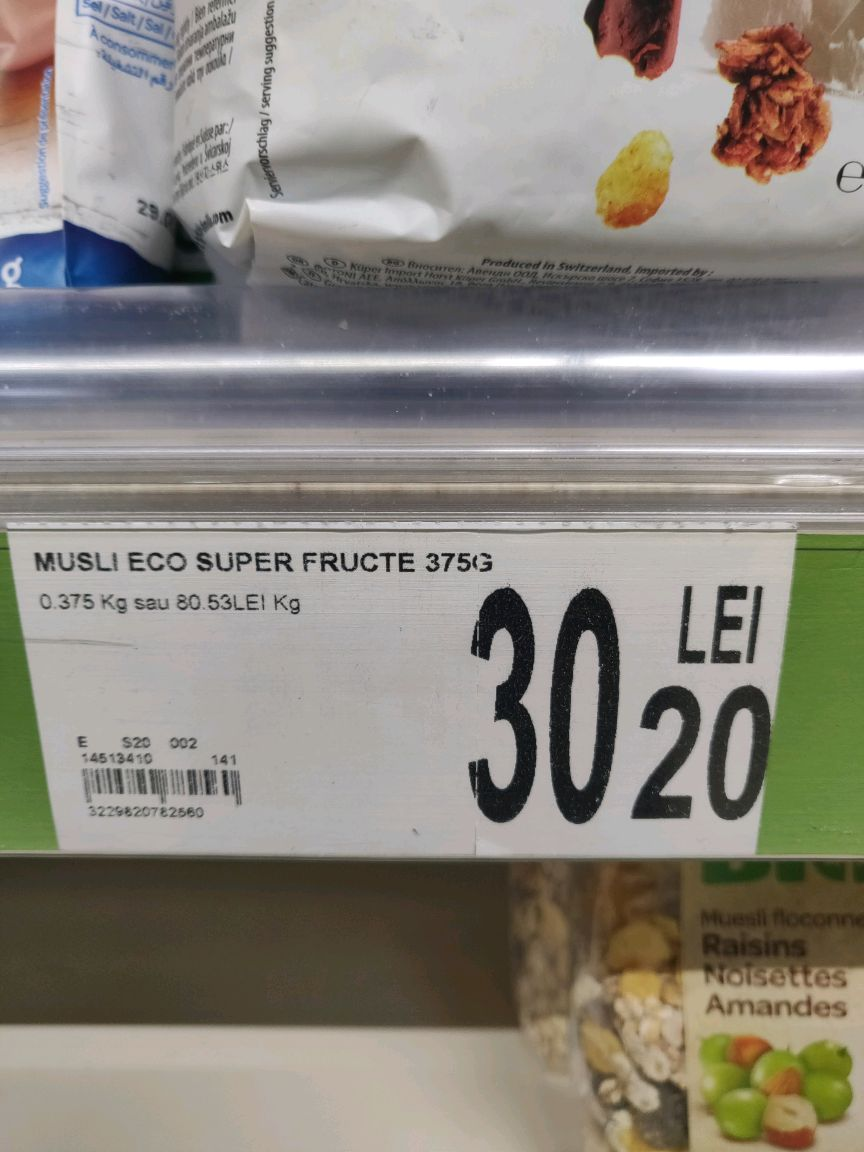price_bani: (629, 676, 775, 837)
price_lei: (448, 583, 625, 834)
price_tag: (2, 515, 806, 865)
product_id: (80, 804, 223, 825)
product_name: (24, 540, 500, 578)
